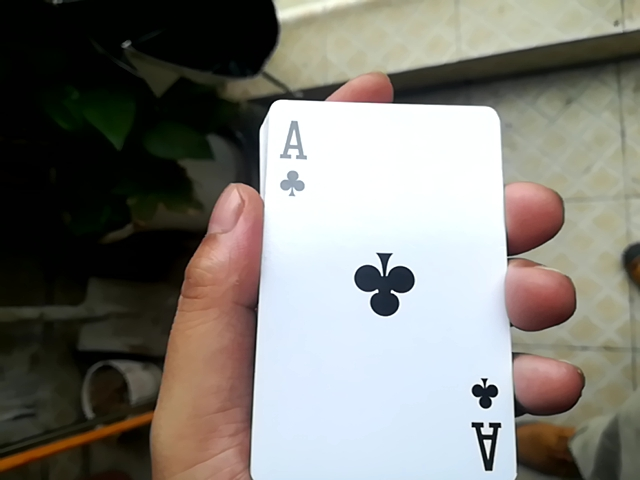mh a: (235, 105, 514, 475)
